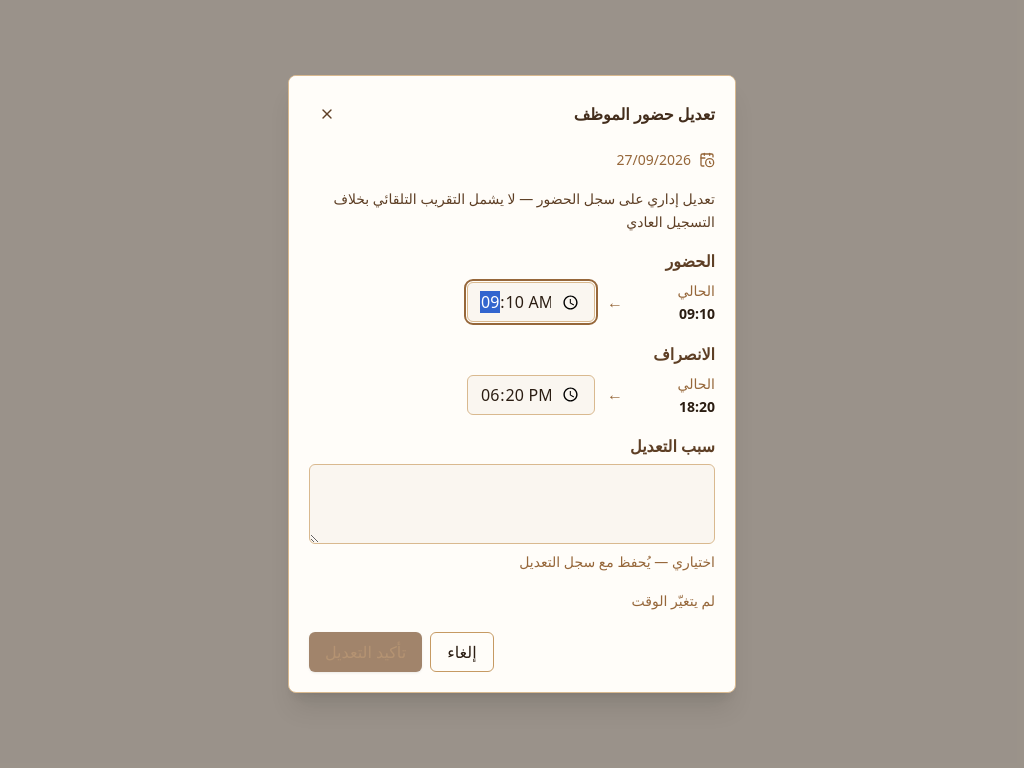
Test: AttendanceOverrideDialog › will not offer to send a check-out that is not after the check-in
Replace the text in the time field showing "الانصراف" with "08:00" at {"x": 531, "y": 395}, box [467,375,595,415]
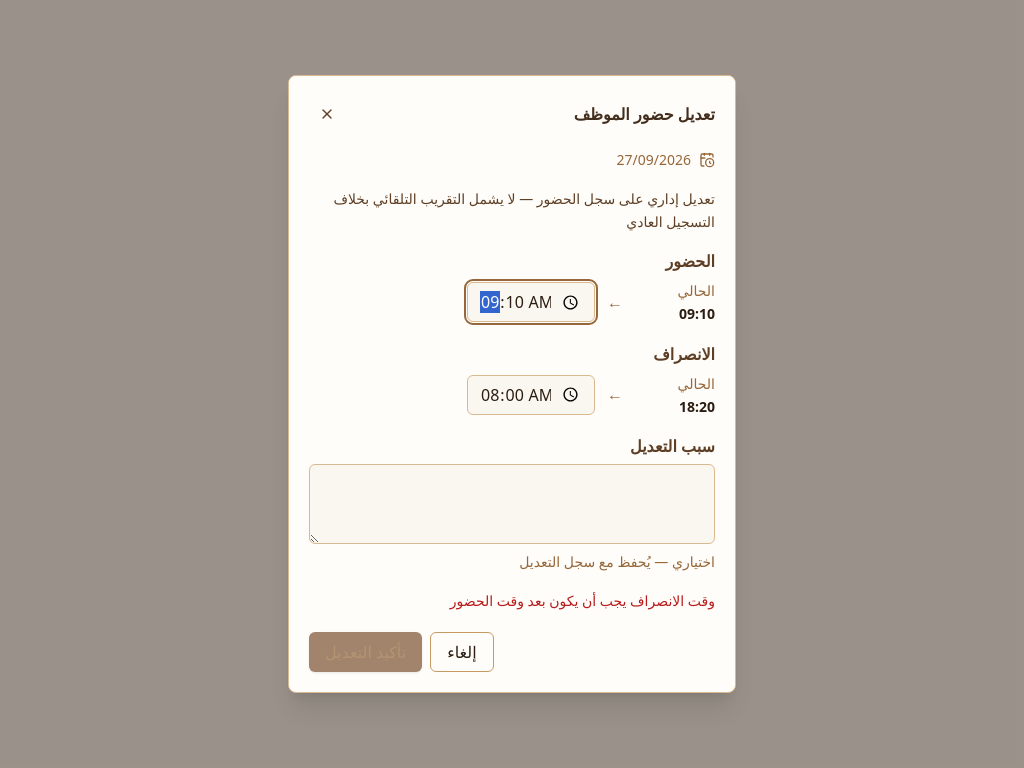
Expected: the button "تأكيد التعديل" is disabled, [309,632,422,672]
Expected: the message reads "وقت الانصراف يجب أن يكون بعد وقت الحضور", [450,591,715,610]
